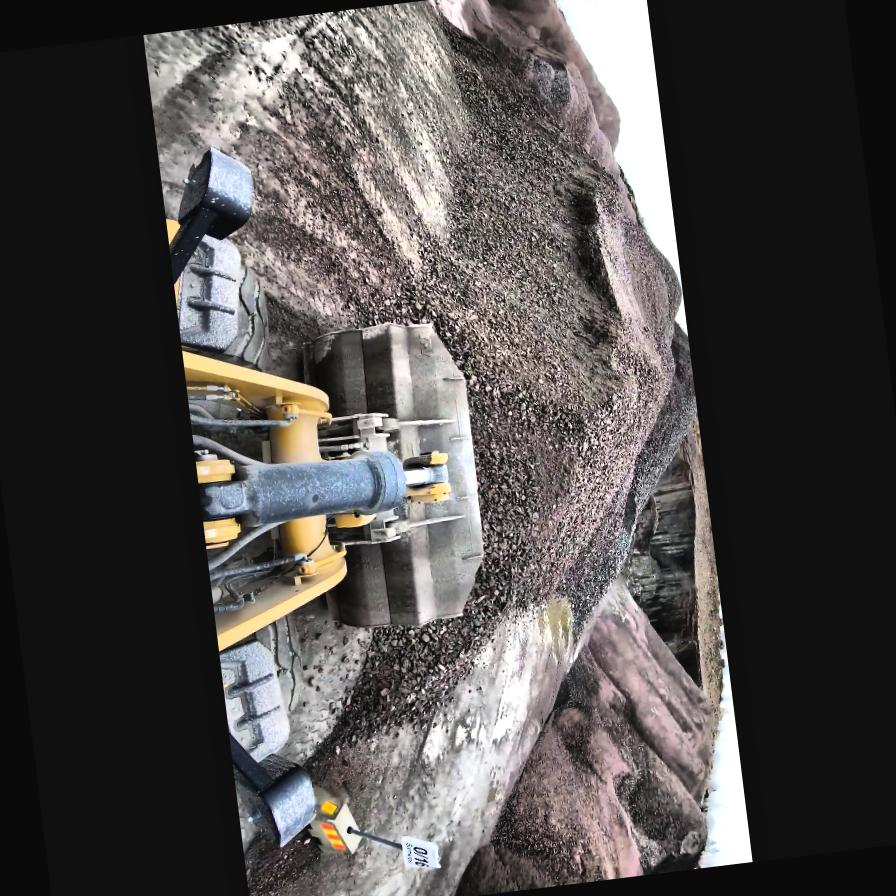anchor: (400, 449, 454, 504)
pile of gravel: (253, 36, 734, 752), (390, 574, 739, 896), (572, 594, 726, 820), (467, 0, 625, 169)
